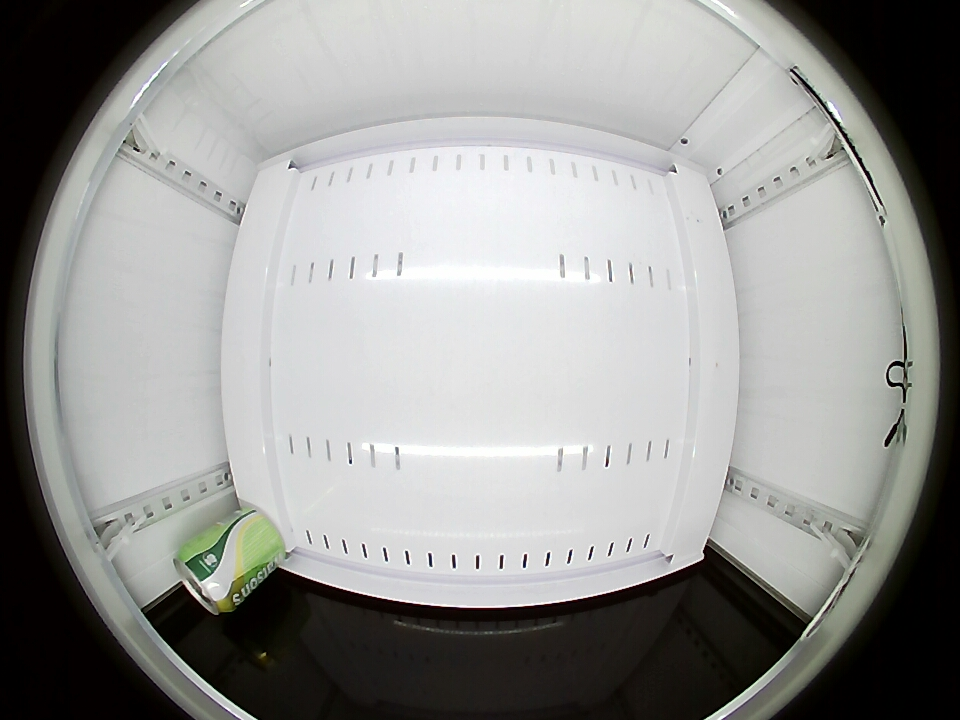quchenshixiangcao: (174, 543, 234, 615)
